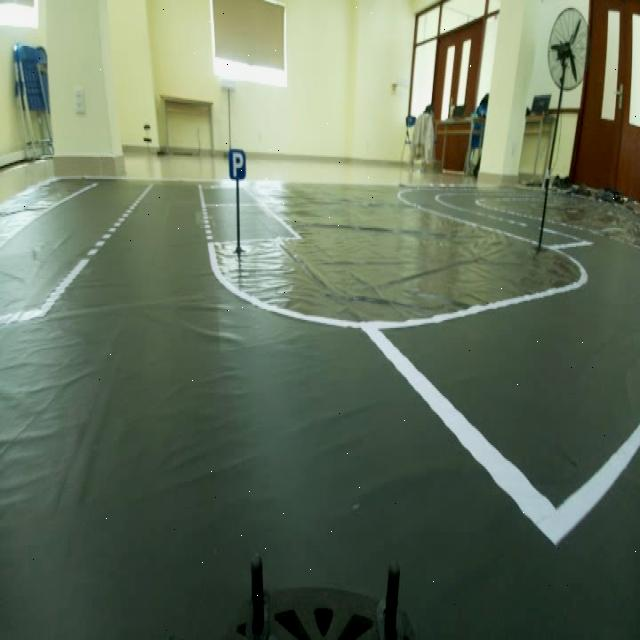parking: (231, 145, 250, 183)
